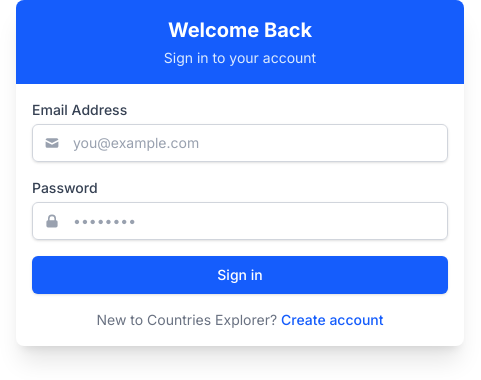
Scenario: LoginForm Component › shows loading state during form submission
Type "test@example.com" into the field labelled "Email Address" at (240, 143), box [32,124,448,162]
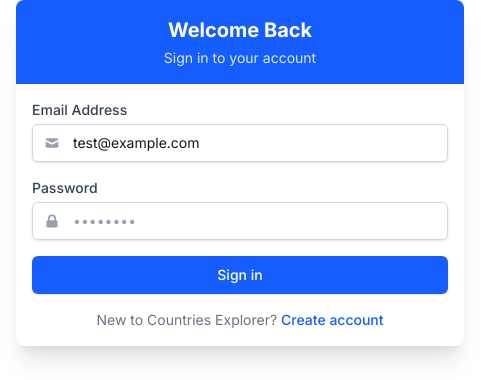
Type "password123" into the password field labelled "Password" at (240, 221), box [32,202,448,240]
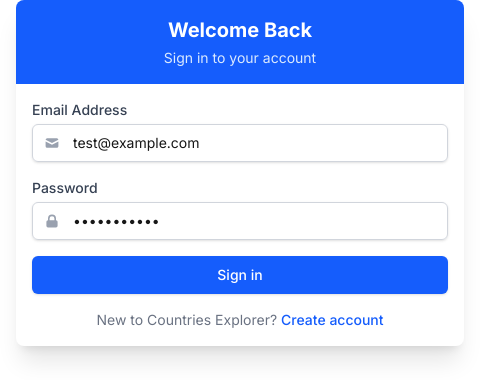
Click the button "Sign in" at (240, 275), box [32,256,448,294]
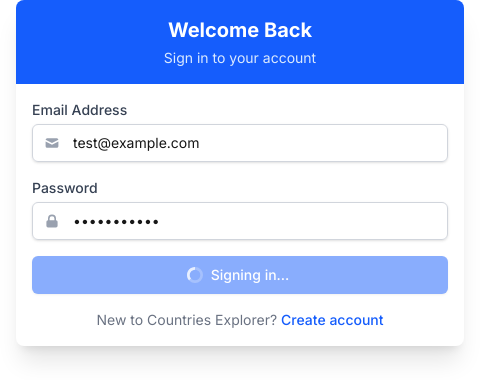
expect the text "Signing in..." is shown: met, box [191,265,289,285]
